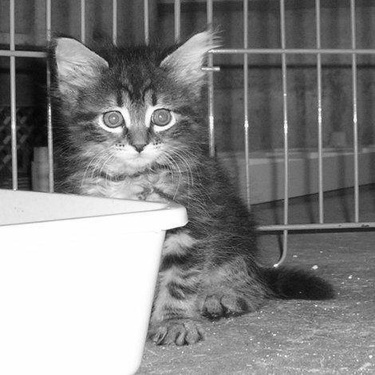cat: (50, 29, 337, 345)
